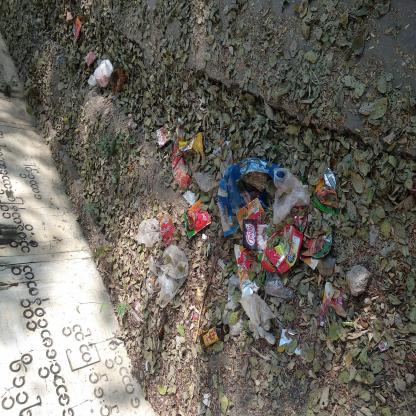trash: (132, 287, 199, 384), (52, 316, 100, 378), (143, 358, 189, 416), (79, 208, 132, 256), (106, 347, 145, 406), (89, 305, 132, 353), (187, 234, 222, 278), (133, 243, 166, 286), (137, 310, 167, 355), (48, 260, 75, 308), (124, 320, 150, 368), (169, 224, 203, 258), (126, 178, 152, 218), (244, 115, 269, 151), (127, 210, 159, 237), (200, 205, 222, 231), (280, 96, 301, 113), (156, 244, 172, 264), (261, 110, 276, 130), (296, 85, 305, 100)
